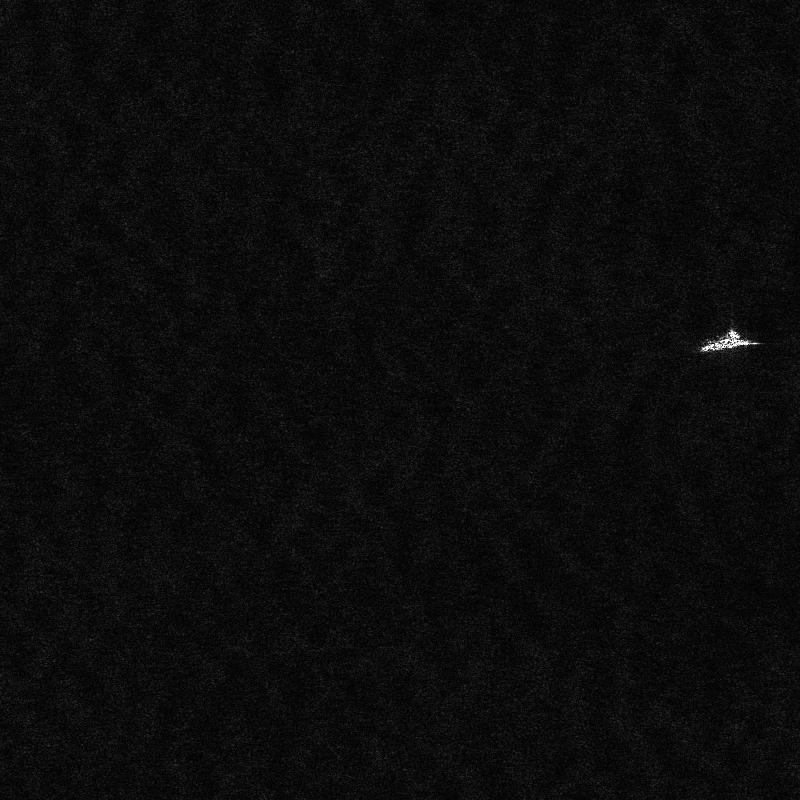ship: (700, 330, 759, 351)
